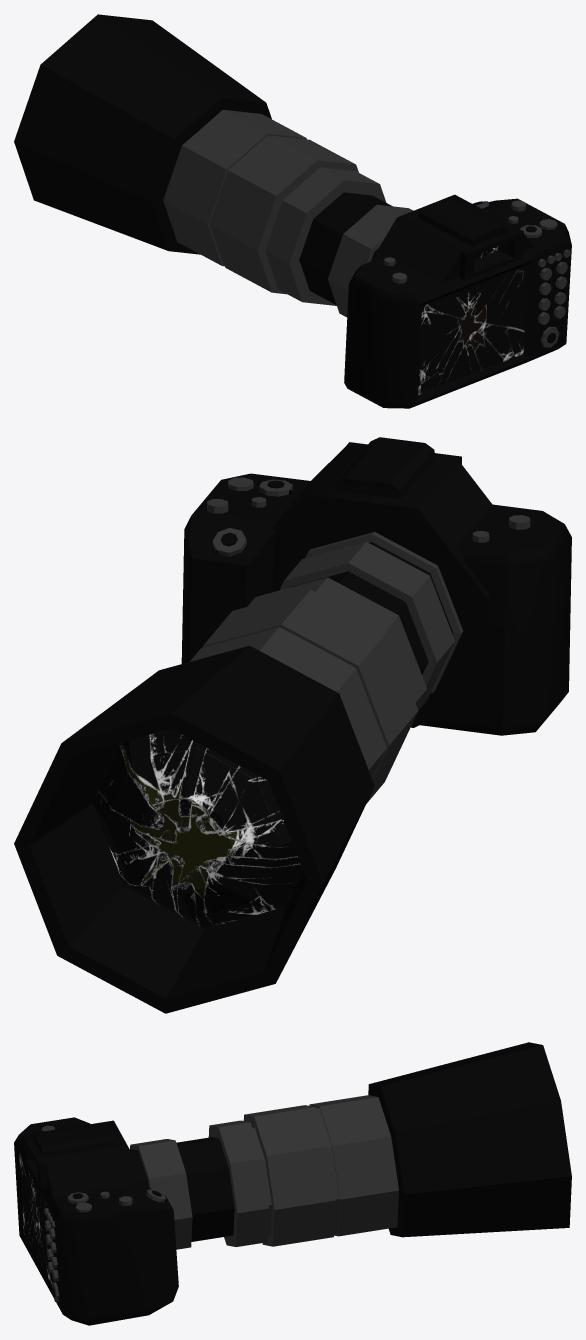
The model's file is camera_01.fbx.
3 renders of one model, top to bottom at view 1: azimuth 30°, elevation 25°; view 2: azimuth 150°, elevation 25°; view 3: azimuth 270°, elevation 25°, orthographic. The views are drawn at different scales.
Parts seen in each view (by area): view 1: camera_01; view 2: camera_01; view 3: camera_01.
Boxes of the visible parts, left/top/right/bottom form: camera_01: left=14, top=14, right=571, bottom=408; camera_01: left=14, top=437, right=571, bottom=1013; camera_01: left=14, top=1042, right=571, bottom=1325.
Bounding box in the file's own units: 23.05 × 14.03 × 38.52.
Materials: 1 (1 with a texture image).
